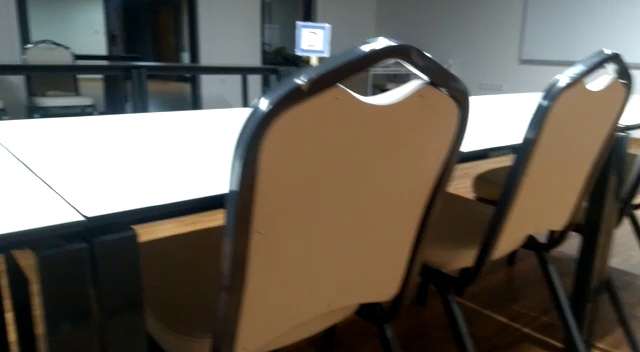durak: (298, 24, 329, 55)
